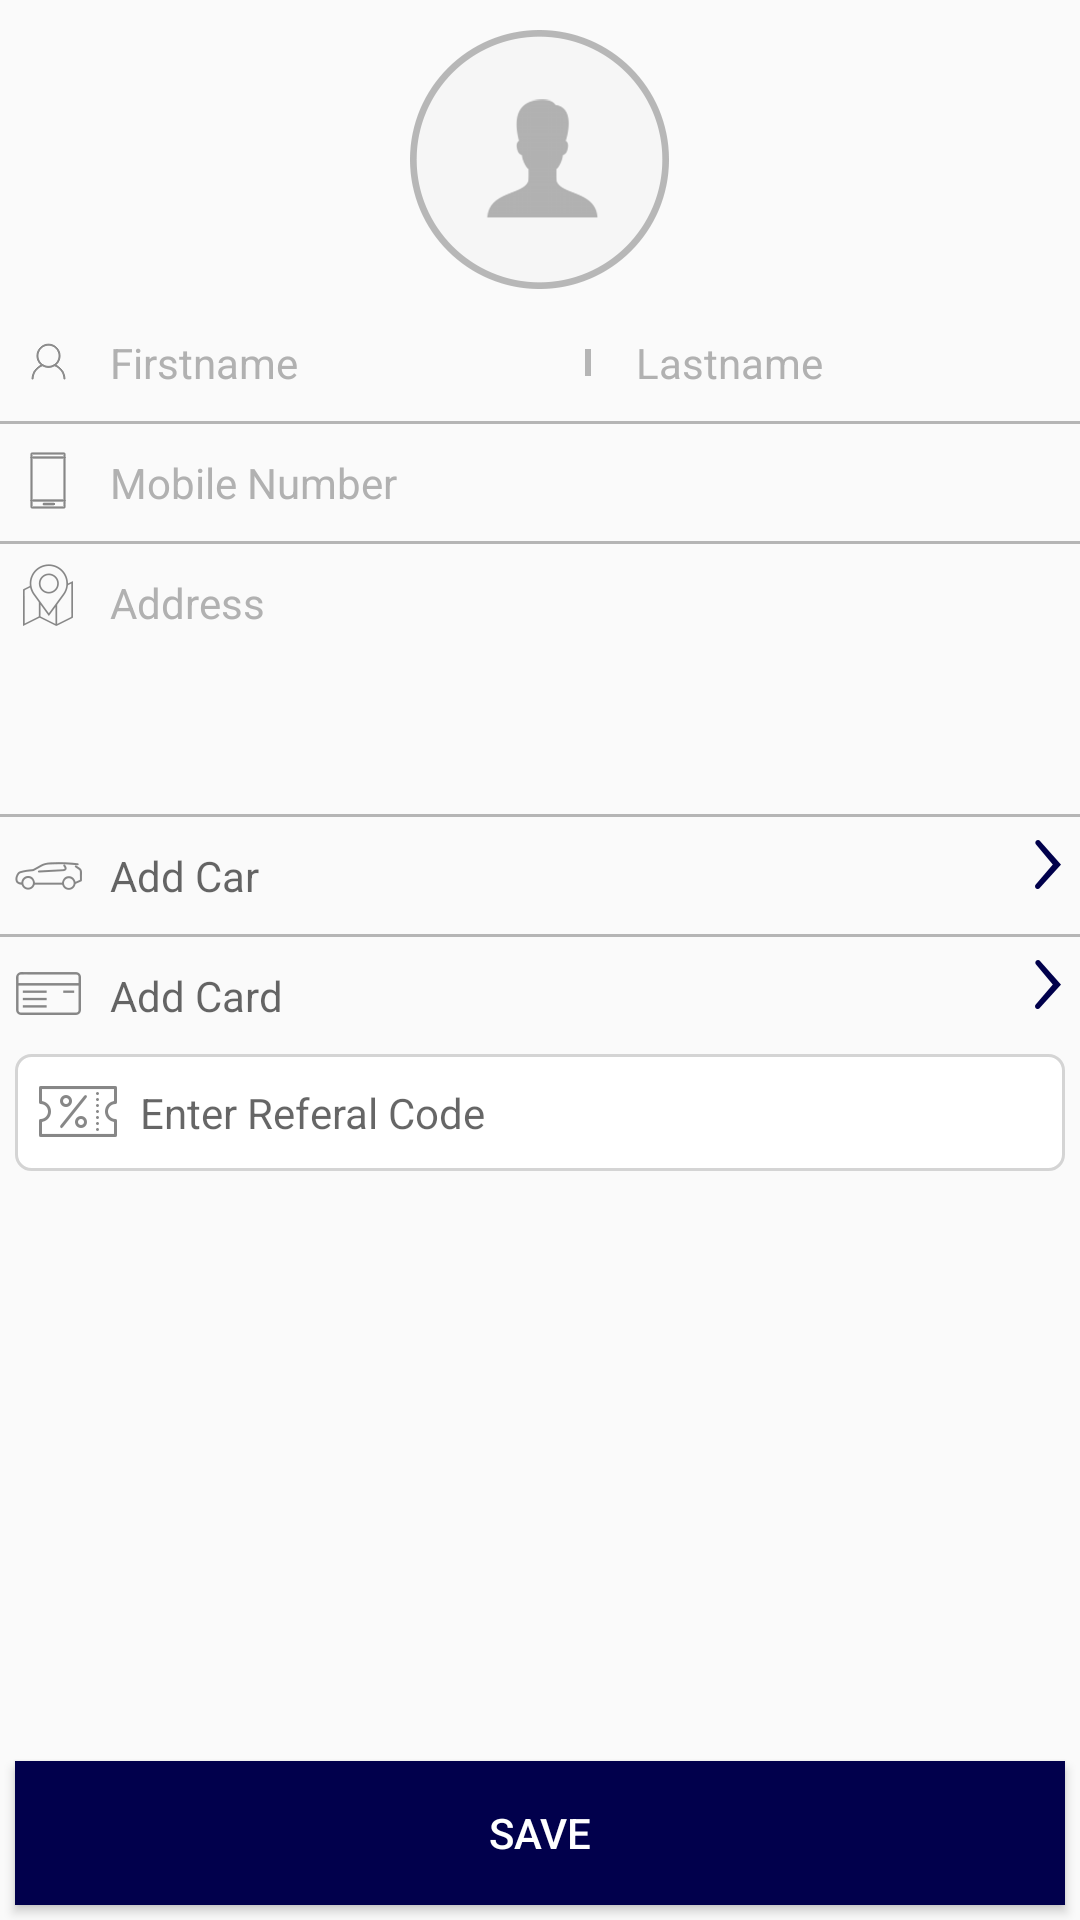

Locate icon controls on the screen. Image size 1080px×1920px, boxes as [x1, y1, x2, y2].
coupon: [39, 1086, 117, 1137]
location: [23, 564, 73, 626]
model: [15, 862, 82, 890]
nextarrow: [1035, 840, 1061, 889], [1035, 960, 1061, 1009]
profileplaceholder: [410, 30, 669, 289]
user: [31, 343, 66, 380]
